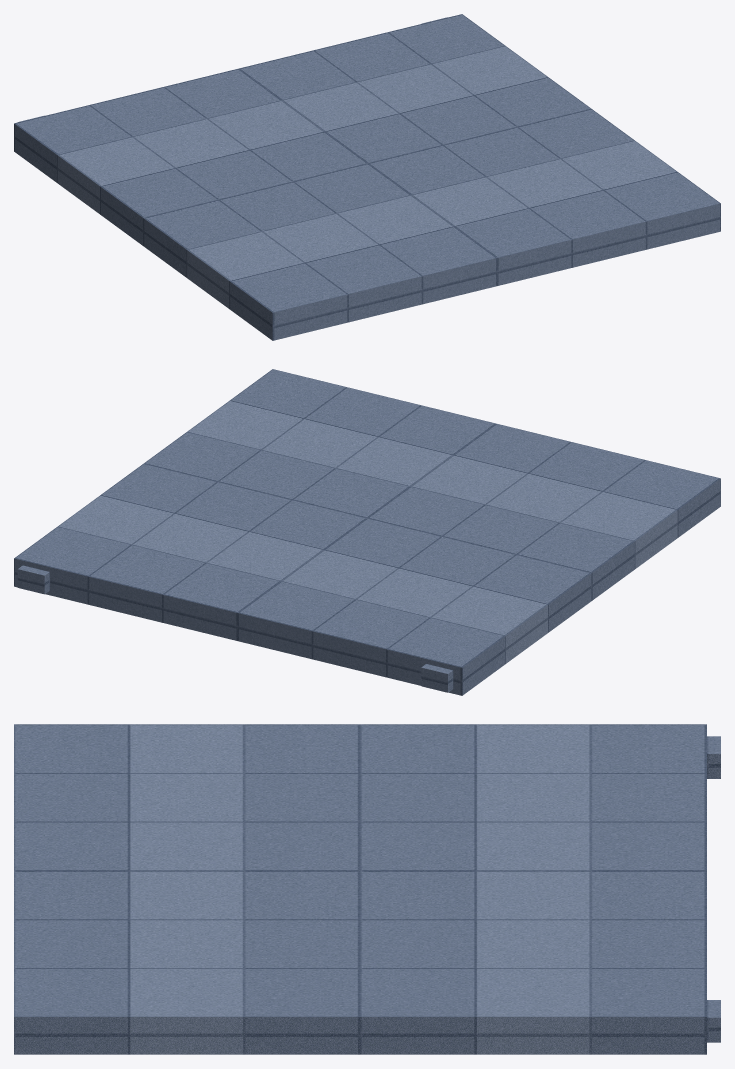
3 views of the same model, one above another, from view 1: azimuth 30°, elevation 25°; view 2: azimuth 150°, elevation 25°; view 3: azimuth 270°, elevation 25° (orthographic). The views are drawn at different scales.
Parts seen in each view (by area): view 1: fence_chainlink_1u_production_run001; view 2: fence_chainlink_1u_production_run001; view 3: fence_chainlink_1u_production_run001.
Part boxes in pixels (bbox=[...]): fence_chainlink_1u_production_run001: bbox=[14, 14, 720, 340]; fence_chainlink_1u_production_run001: bbox=[14, 369, 720, 695]; fence_chainlink_1u_production_run001: bbox=[14, 724, 720, 1054].
Size of the model in its own units: 2 by 0.12 by 2.04.
Materials: 1 (1 with a texture image).
